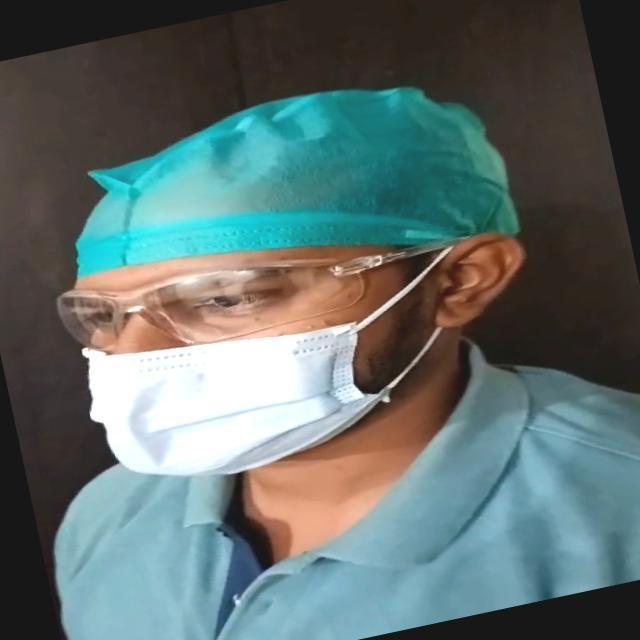gloves: (8, 73, 536, 283)
mask: (83, 328, 384, 482)
